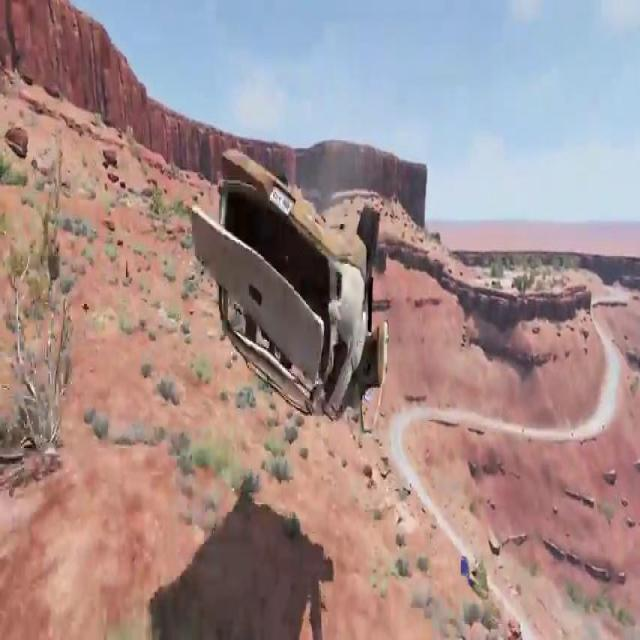severe: (181, 132, 392, 435)
